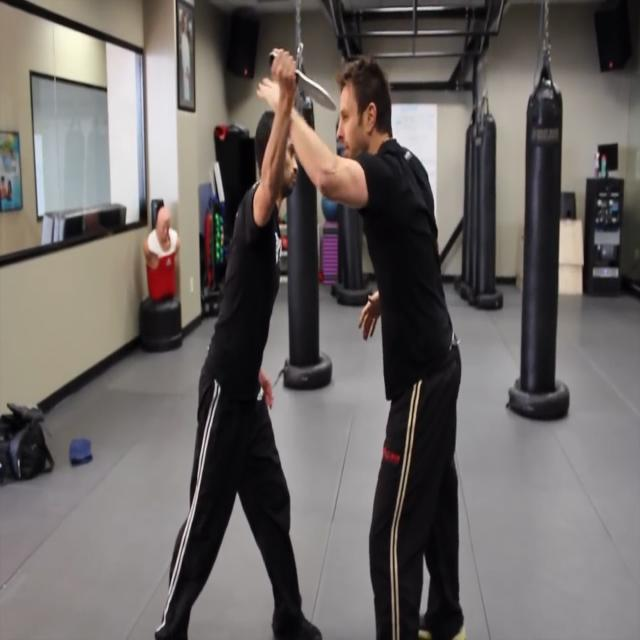knife: (292, 64, 340, 117)
